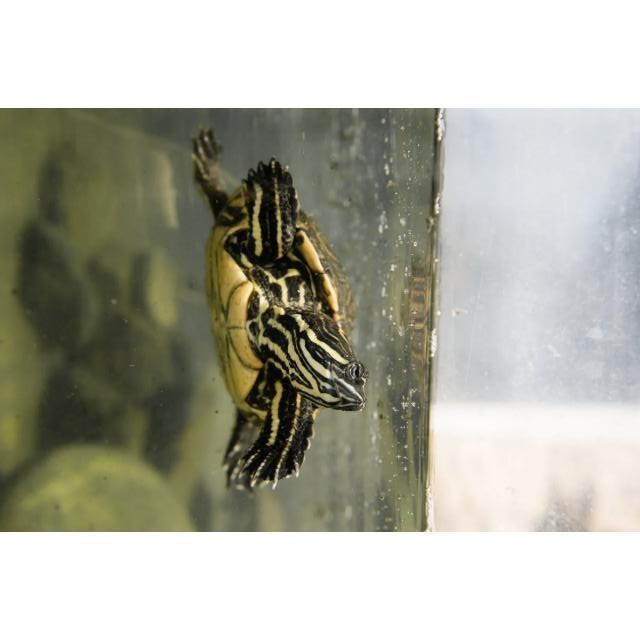turtle: (189, 126, 369, 495)
